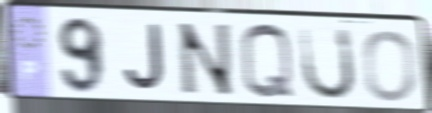9: (55, 14, 106, 98)
J: (121, 22, 169, 95)
N: (175, 21, 238, 99)
O: (361, 28, 419, 104)
Q: (237, 21, 298, 104)
U: (297, 24, 358, 103)
